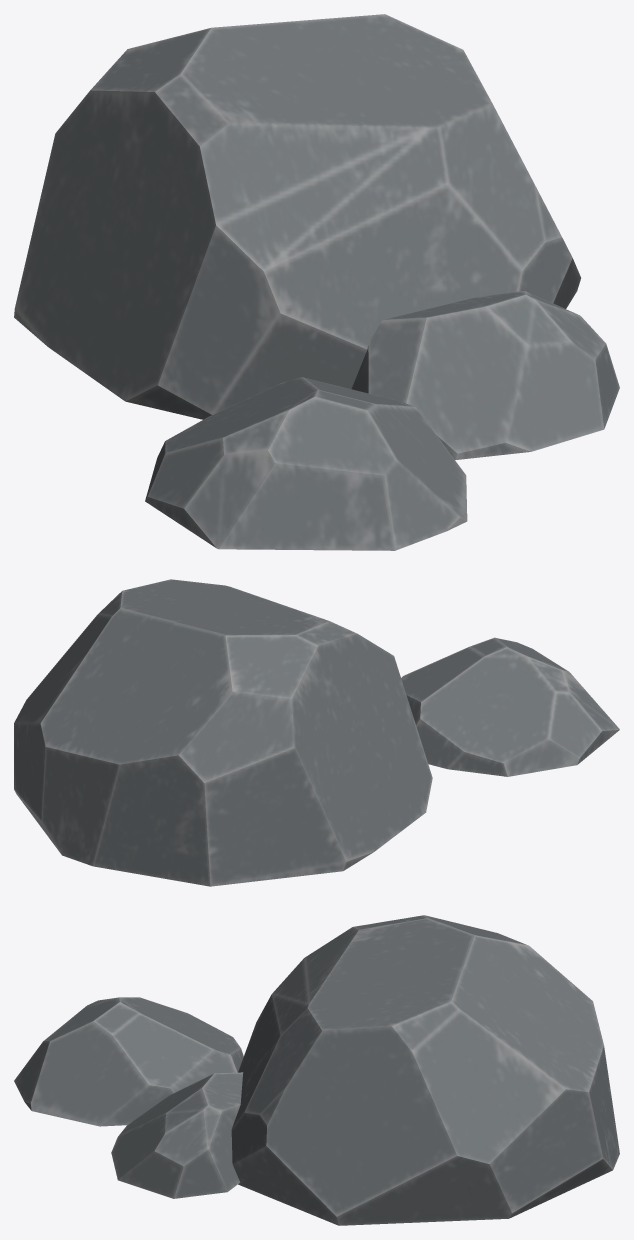
The model's file is Rocks2.glb.
3 renders of one model, top to bottom at view 1: azimuth 30°, elevation 25°; view 2: azimuth 150°, elevation 25°; view 3: azimuth 270°, elevation 25°, orthographic. The views are drawn at different scales.
Parts seen in each view (by area): view 1: Cube.002; view 2: Cube.002; view 3: Cube.002.
Boxes of the visible parts, x1,y1,x2,y2 form: Cube.002: [14, 14, 619, 550]; Cube.002: [14, 579, 619, 886]; Cube.002: [14, 915, 619, 1225].
Size of the model in its own units: 0.6231 by 0.2854 by 0.8079.
Materials: 1 (1 with a texture image).
